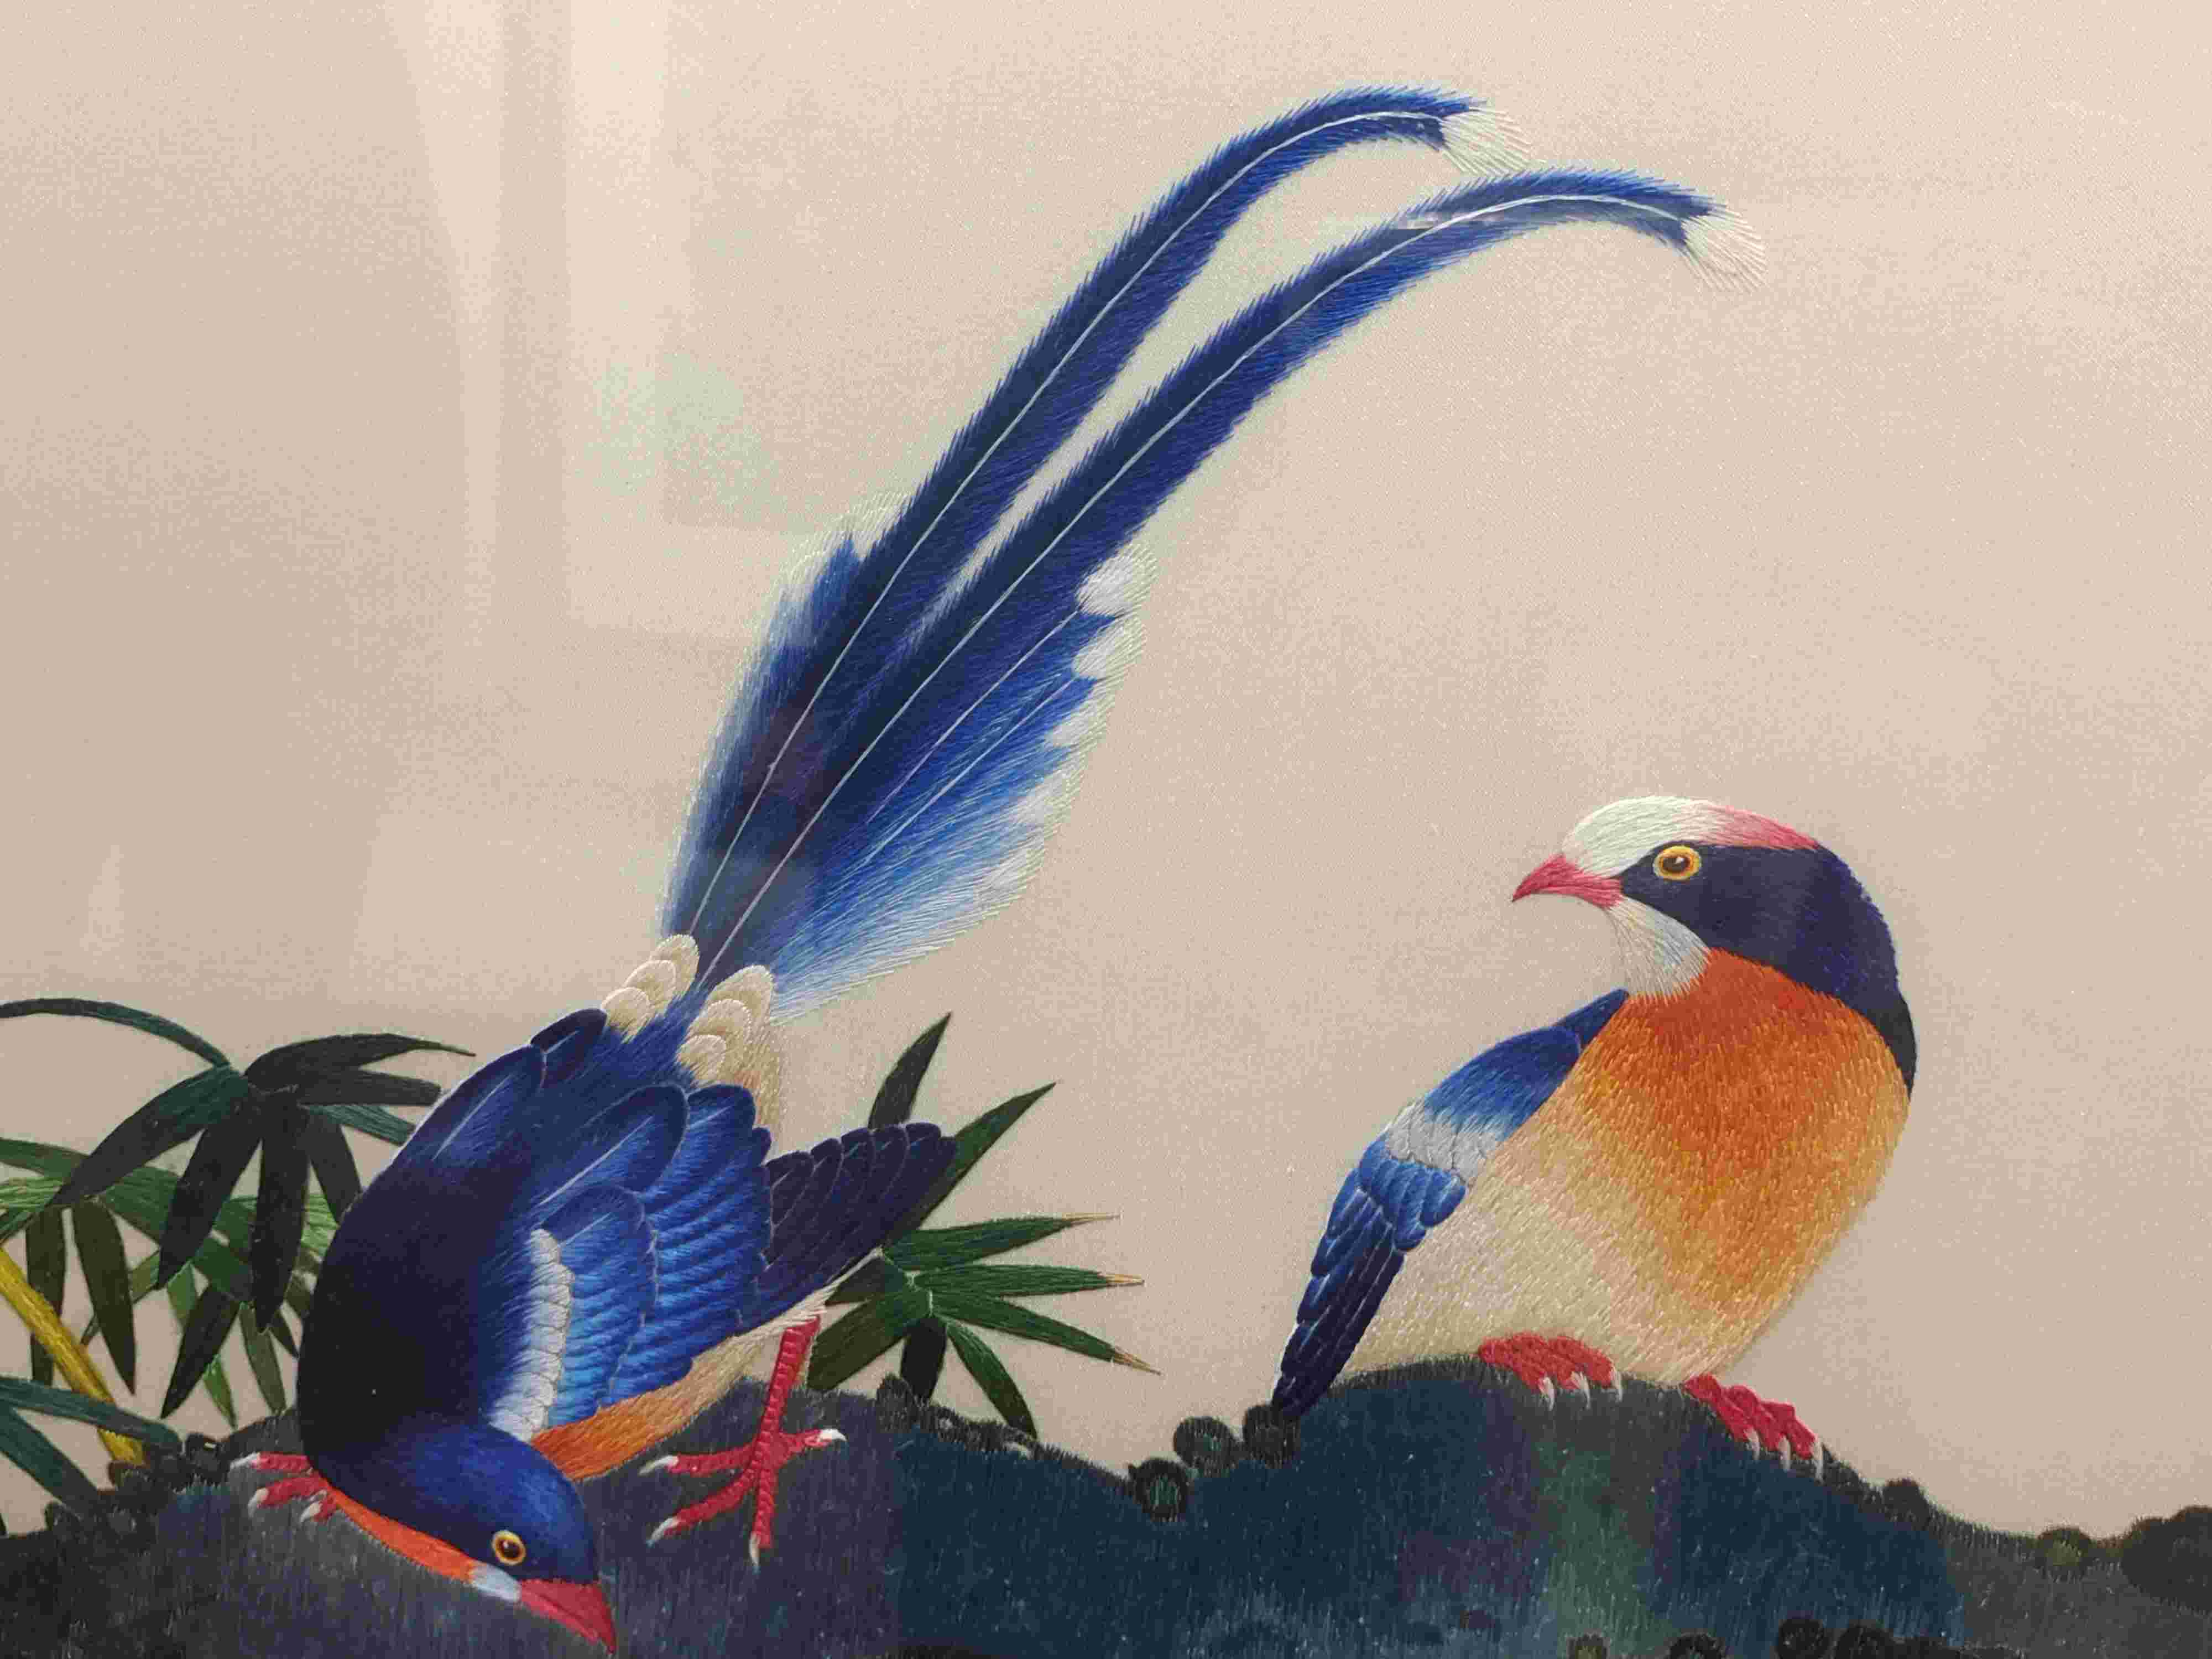bird: (244, 89, 1766, 1652), (1214, 789, 1921, 1492)
